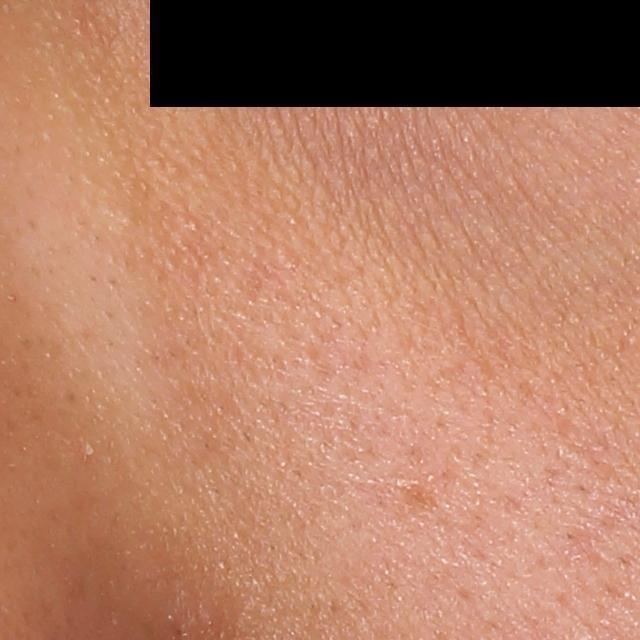melasma: (389, 480, 445, 523)
